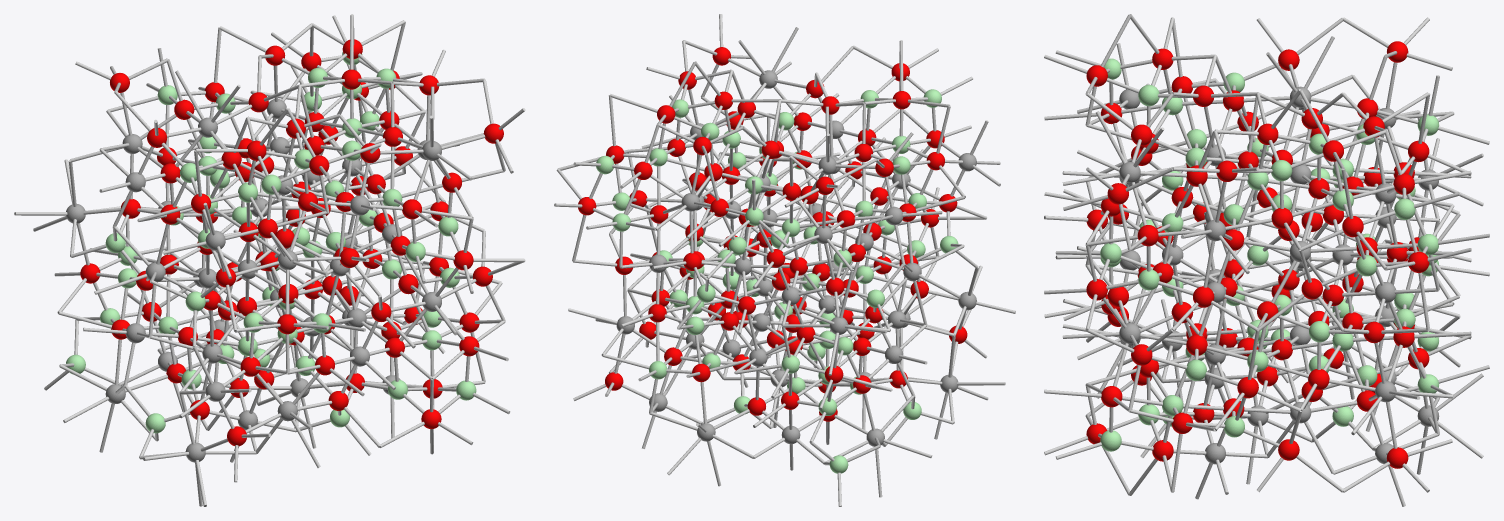
File: structure_mpstyle.glb
3 renders of one model, left to right at view 1: azimuth 30°, elevation 25°; view 2: azimuth 150°, elevation 25°; view 3: azimuth 270°, elevation 25°, orthographic. The views are drawn at different scales.
Visible parts, largest first — view 1: world; view 2: world; view 3: world.
Part boxes in pixels (bbox=[...]): world: bbox=[14, 14, 525, 506]; world: bbox=[554, 14, 1015, 506]; world: bbox=[1044, 14, 1489, 506].
Size of the model in its own units: 17.55 by 17.55 by 16.61.
